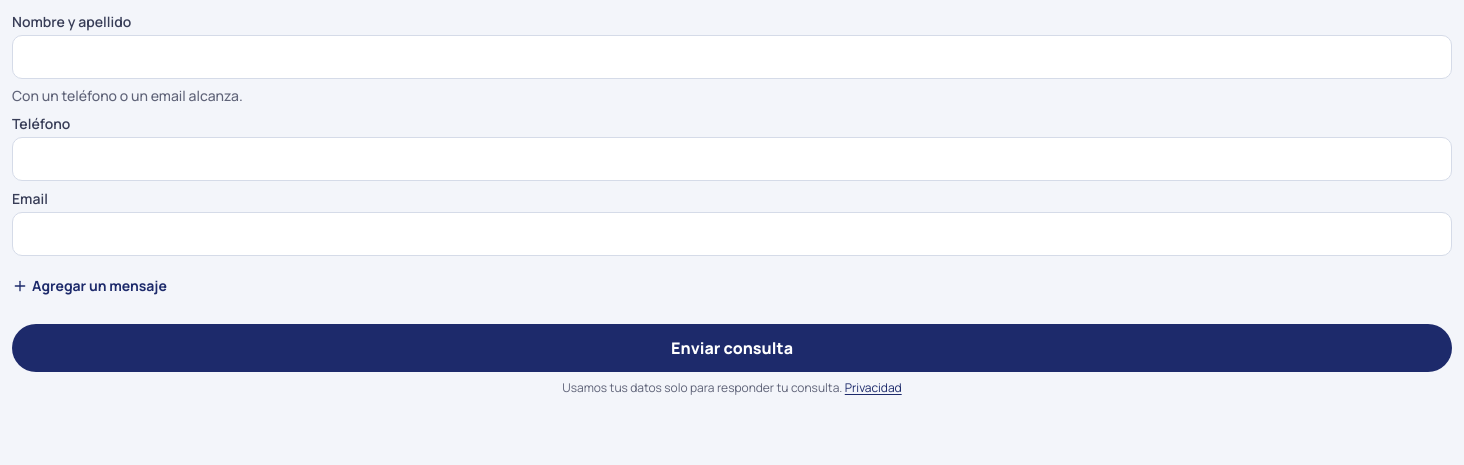
Test: PropertyInquiryForm › shows general errors as an alert
The image size is (1464, 465).
Type "Ana" into the field labelled "Nombre y apellido" at (732,57), box x1=12 y1=35 x2=1452 y2=79
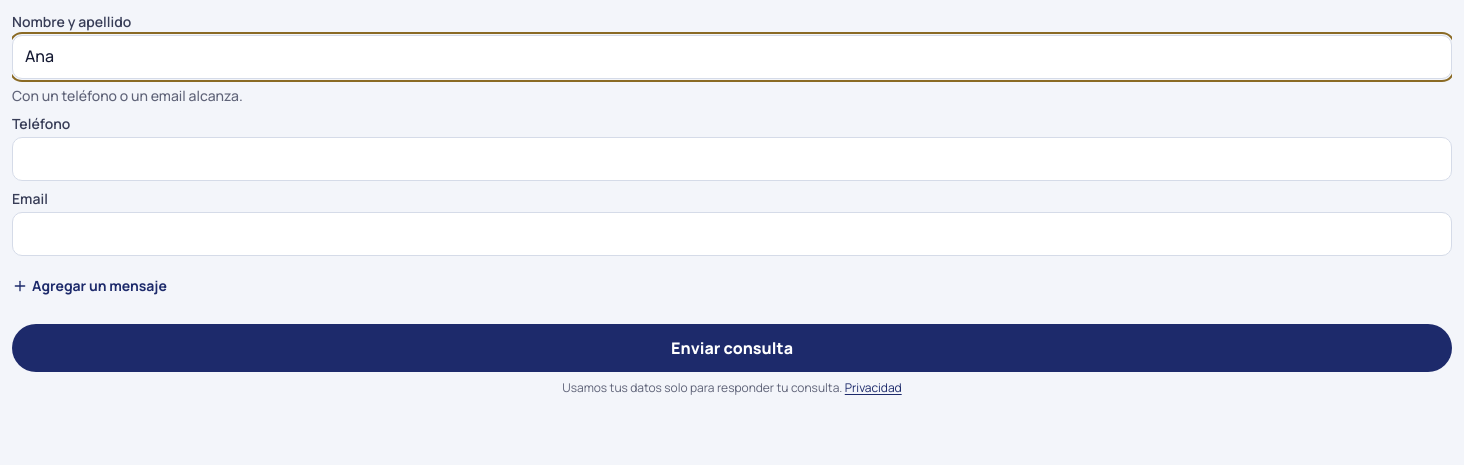
Click the button "Enviar consulta" at (732,348), box x1=12 y1=324 x2=1452 y2=372
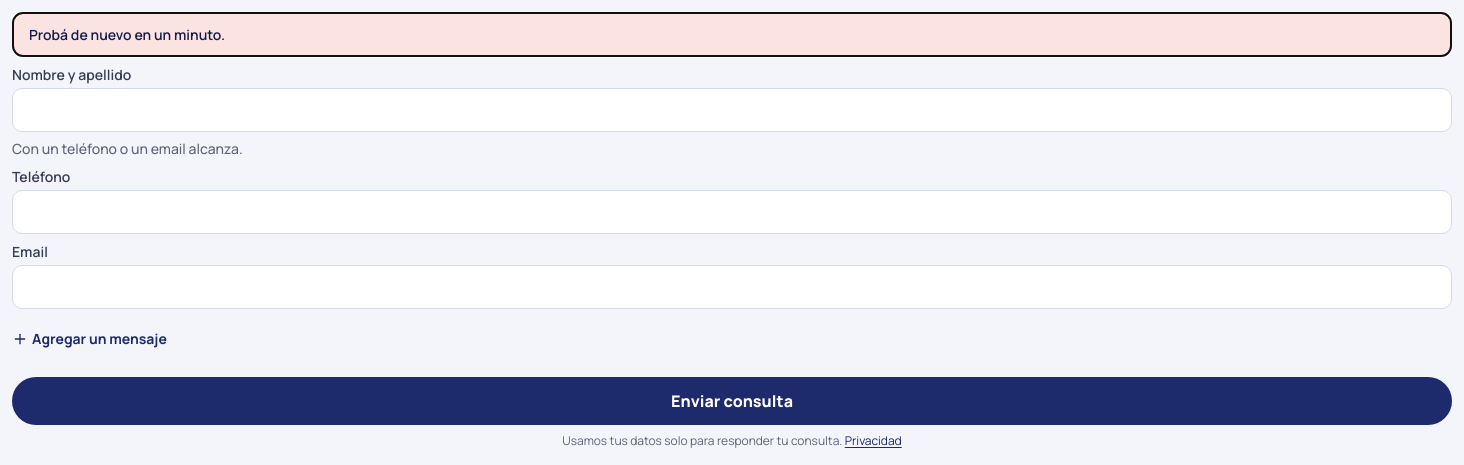
Check: the message reads "Probá de nuevo en un minuto.", box x1=29 y1=25 x2=225 y2=44
